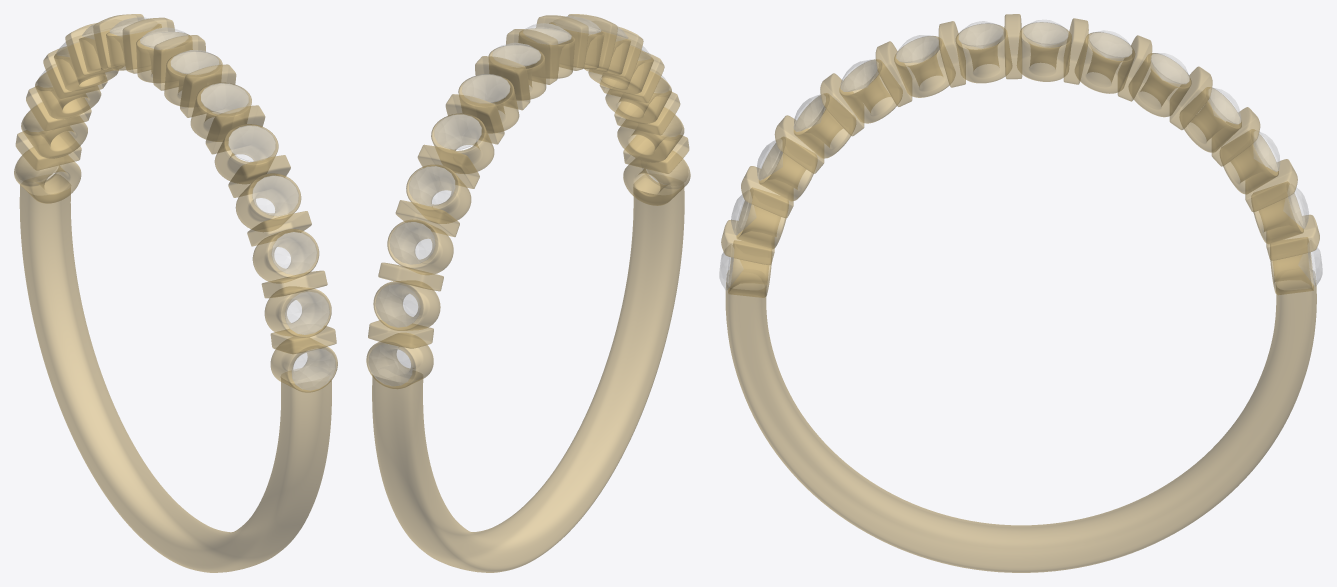
The picture shows the model from 3 angles, left to right: view 1: azimuth 30°, elevation 25°; view 2: azimuth 150°, elevation 25°; view 3: azimuth 270°, elevation 25°; orthographic projection. The views are drawn at different scales.
Parts seen in each view (by area): view 1: Ring, Diamond; view 2: Ring, Diamond; view 3: Ring, Diamond.
Boxes of the visible parts, x1,y1,x2,y2 form: Ring: [14, 14, 337, 572]; Diamond: [16, 17, 335, 390]; Ring: [366, 14, 690, 572]; Diamond: [368, 16, 687, 386]; Ring: [721, 14, 1319, 572]; Diamond: [719, 20, 1322, 290].
Bounding box in the file's own units: 0.2375 × 2.31 × 2.32.
